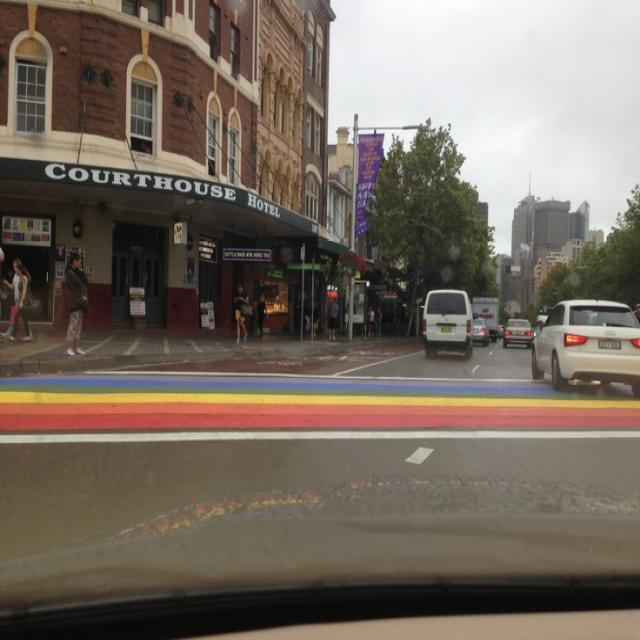body: (5, 261, 38, 342), (64, 251, 89, 357), (0, 256, 27, 342), (230, 282, 248, 346), (256, 291, 270, 339), (304, 297, 318, 335), (327, 296, 338, 344), (346, 280, 360, 314), (366, 305, 377, 337), (185, 259, 196, 285), (627, 299, 640, 319), (376, 305, 382, 337), (56, 262, 62, 277)
